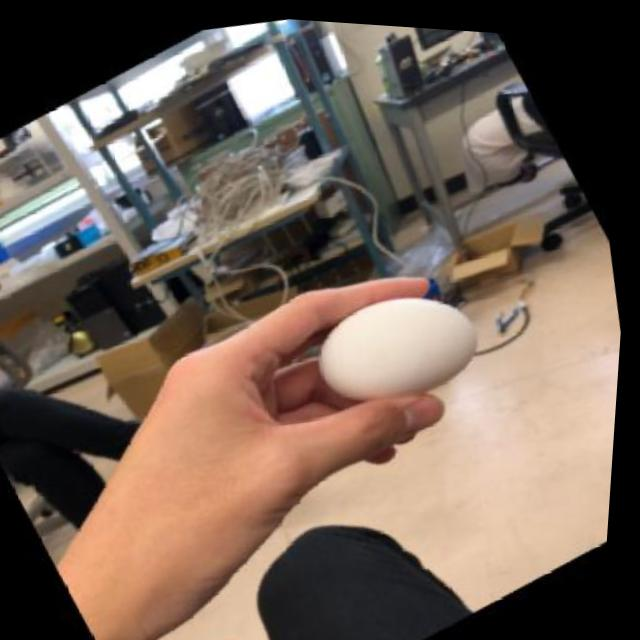egg: (301, 267, 503, 415)
